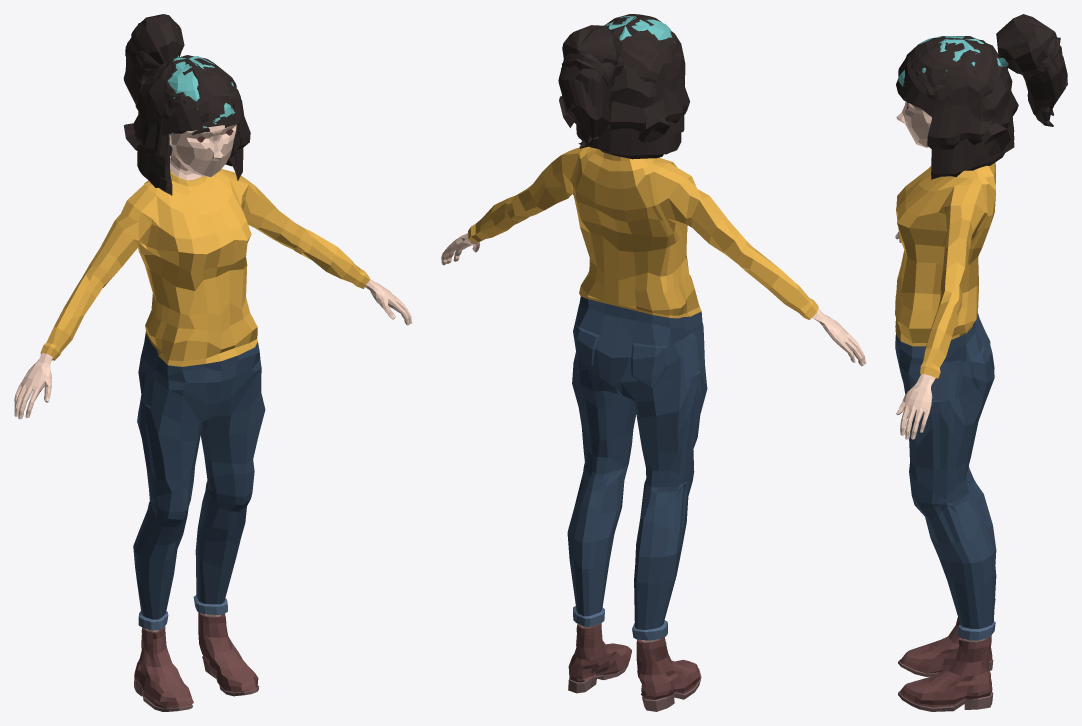
File: character_NPC_F_05.fbx
The picture shows the model from 3 angles, left to right: view 1: azimuth 30°, elevation 25°; view 2: azimuth 150°, elevation 25°; view 3: azimuth 270°, elevation 25°; orthographic projection. The views are drawn at different scales.
Parts seen in each view (by area): view 1: charaBody_npcF_V05_geo, charaHair_NPC_F_V02_geo, charaHair_NPC_F_V03_geo, charaHair_NPC_F_V08_geo, charaHair_NPC_F_V09_geo, charaHair_NPC_F_V07_geo, charaHair_NPC_F_V01_geo, charaHair_NPC_F_V10_geo, charaHair_NPC_F_V05_geo; view 2: charaBody_npcF_V05_geo, charaHair_NPC_F_V03_geo, charaHair_NPC_F_V05_geo, charaHair_NPC_F_V02_geo, charaHair_NPC_F_V01_geo, charaHair_NPC_F_V08_geo, charaHair_NPC_F_V10_geo, charaHair_NPC_F_V04_geo, charaHair_NPC_F_V07_geo; view 3: charaBody_npcF_V05_geo, charaHair_NPC_F_V03_geo, charaHair_NPC_F_V08_geo, charaHair_NPC_F_V02_geo, charaHair_NPC_F_V05_geo, charaHair_NPC_F_V10_geo, charaHair_NPC_F_V01_geo, charaHair_NPC_F_V09_geo, charaHair_NPC_F_V07_geo, charaHair_NPC_F_V06_geo.
Boxes of the visible parts, x1,y1,x2,y2 form: charaBody_npcF_V05_geo: [14, 124, 412, 711]; charaHair_NPC_F_V02_geo: [140, 57, 240, 182]; charaHair_NPC_F_V03_geo: [133, 57, 250, 195]; charaHair_NPC_F_V08_geo: [131, 14, 228, 93]; charaHair_NPC_F_V09_geo: [160, 61, 239, 125]; charaHair_NPC_F_V07_geo: [167, 27, 235, 145]; charaHair_NPC_F_V01_geo: [137, 96, 243, 191]; charaHair_NPC_F_V10_geo: [123, 55, 231, 150]; charaHair_NPC_F_V05_geo: [123, 23, 154, 105]; charaBody_npcF_V05_geo: [441, 146, 866, 711]; charaHair_NPC_F_V03_geo: [582, 26, 689, 159]; charaHair_NPC_F_V05_geo: [558, 53, 615, 148]; charaHair_NPC_F_V02_geo: [574, 21, 685, 134]; charaHair_NPC_F_V01_geo: [576, 125, 681, 154]; charaHair_NPC_F_V08_geo: [562, 16, 669, 78]; charaHair_NPC_F_V10_geo: [559, 14, 670, 142]; charaHair_NPC_F_V04_geo: [575, 62, 615, 143]; charaHair_NPC_F_V07_geo: [605, 16, 674, 42]; charaBody_npcF_V05_geo: [895, 101, 996, 711]; charaHair_NPC_F_V03_geo: [900, 39, 1018, 179]; charaHair_NPC_F_V08_geo: [915, 14, 1054, 75]; charaHair_NPC_F_V02_geo: [906, 38, 1014, 157]; charaHair_NPC_F_V05_geo: [1023, 32, 1067, 126]; charaHair_NPC_F_V10_geo: [898, 36, 1010, 155]; charaHair_NPC_F_V01_geo: [904, 59, 1014, 173]; charaHair_NPC_F_V09_geo: [896, 37, 997, 107]; charaHair_NPC_F_V07_geo: [898, 36, 1037, 86]; charaHair_NPC_F_V06_geo: [964, 37, 1067, 125].
Size of the model in its own units: 289 by 451 by 106.
